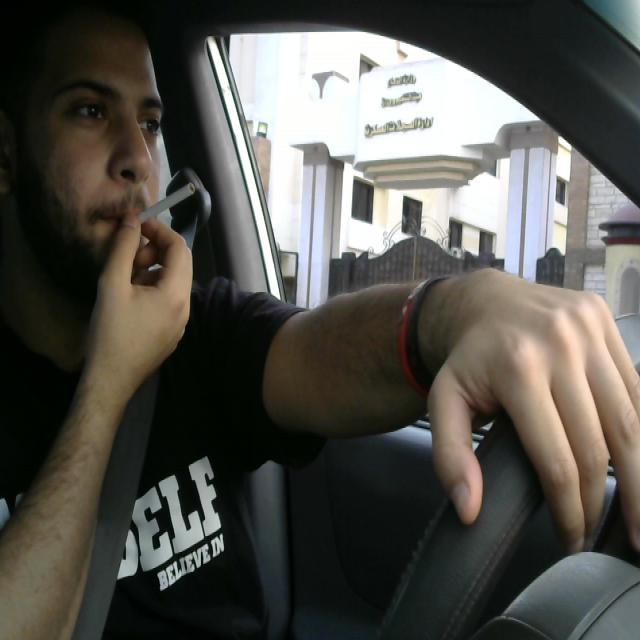smoking: (130, 179, 193, 245)
